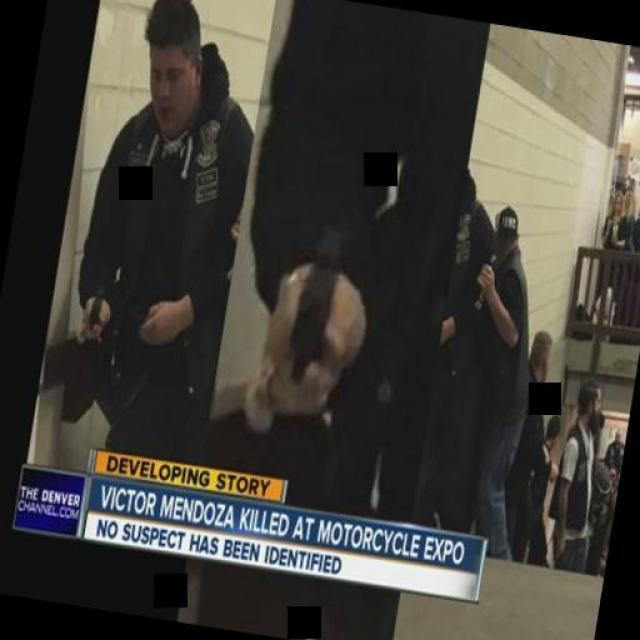gun: (280, 211, 349, 384), (82, 276, 108, 332)
